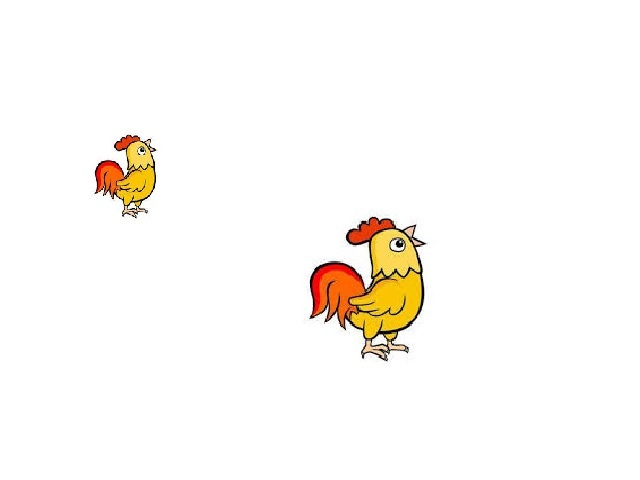crown: (340, 216, 395, 243), (114, 135, 140, 150)
eyes: (389, 238, 404, 251), (134, 146, 147, 155)
feet: (361, 341, 411, 365), (119, 200, 151, 221)
tail: (306, 261, 366, 327), (96, 157, 125, 201)
